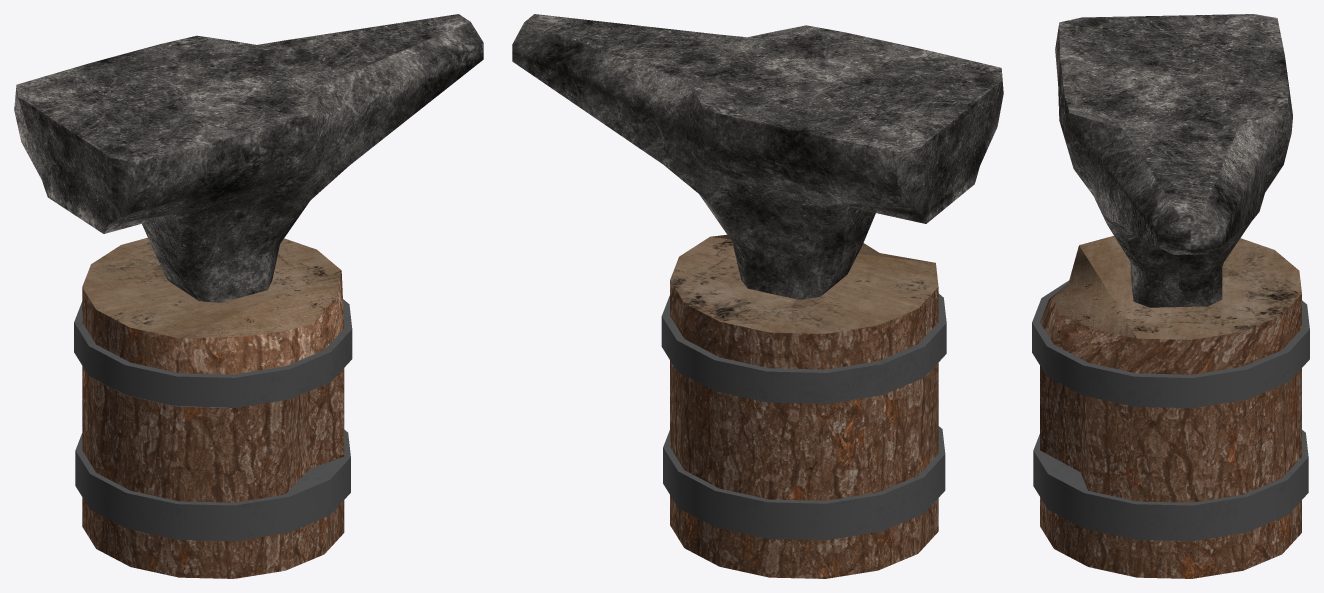
The model's file is BlackSmith.fbx.
The picture shows the model from 3 angles, left to right: view 1: azimuth 30°, elevation 25°; view 2: azimuth 150°, elevation 25°; view 3: azimuth 270°, elevation 25°; orthographic projection. The views are drawn at different scales.
Visible parts, largest first — view 1: BlackSmith; view 2: BlackSmith; view 3: BlackSmith.
Part boxes in pixels (left/top/right/bottom): BlackSmith: left=14, top=14, right=483, bottom=578; BlackSmith: left=512, top=14, right=1003, bottom=578; BlackSmith: left=1032, top=14, right=1309, bottom=578.
Size of the model in its own units: 0.8486 by 0.8398 by 0.4859.
1 material, 1 textured.
